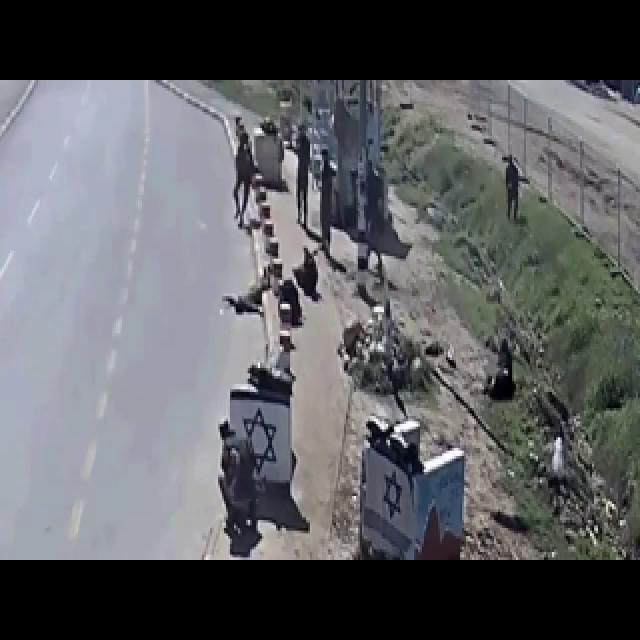shooting: (201, 80, 617, 544)
